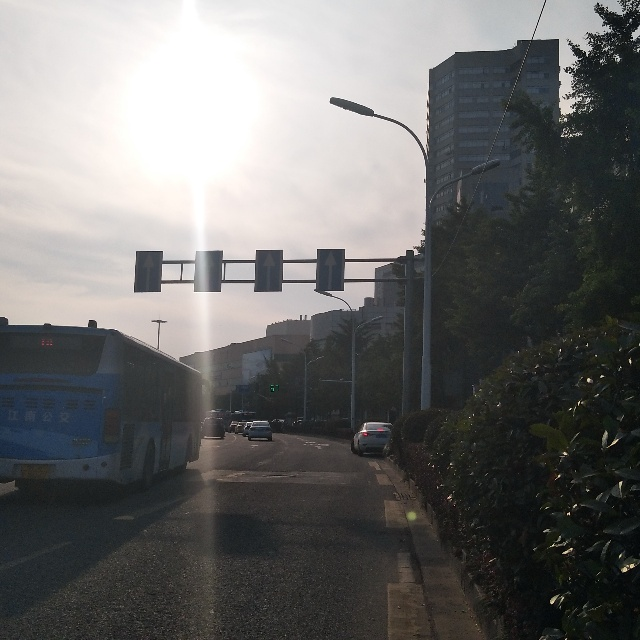straight: (254, 250, 283, 292), (194, 250, 222, 292), (316, 249, 344, 291), (134, 251, 162, 292)
